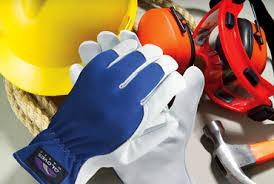gloves: (12, 39, 178, 184), (69, 30, 206, 184)
